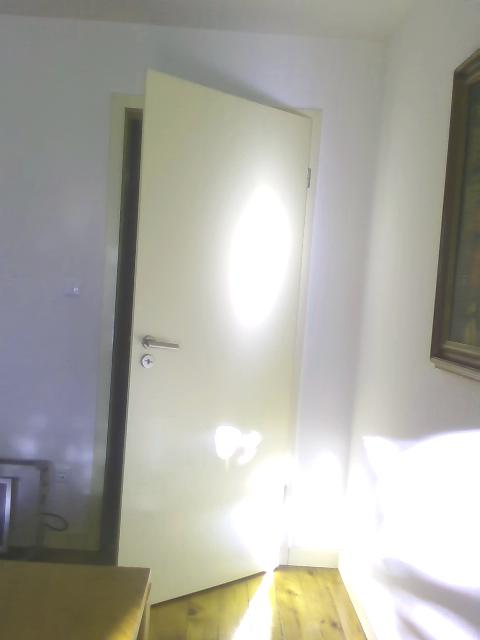semi_door: (89, 59, 322, 615)
